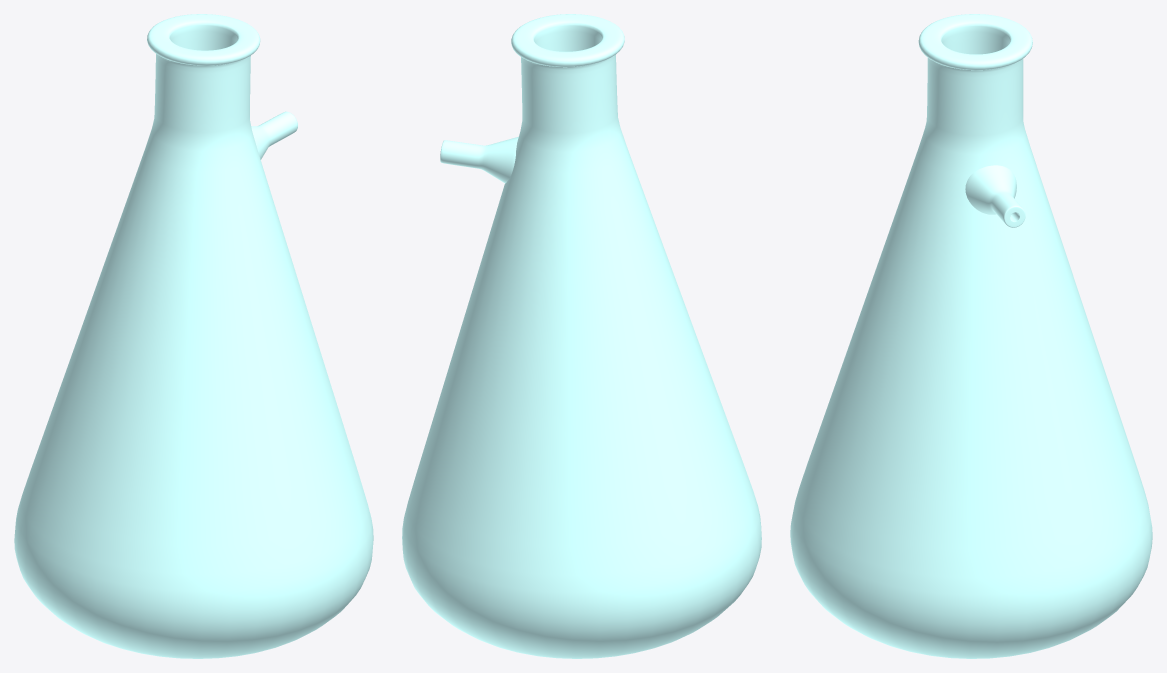
Rendered from matraz.glb.
The picture shows the model from 3 angles, left to right: view 1: azimuth 30°, elevation 25°; view 2: azimuth 150°, elevation 25°; view 3: azimuth 270°, elevation 25°; orthographic projection.
Parts seen in each view (by area): view 1: 17197_Buchner_flask_v1_0; view 2: 17197_Buchner_flask_v1_0; view 3: 17197_Buchner_flask_v1_0.
Part boxes in pixels (left/top/right/bottom): 17197_Buchner_flask_v1_0: left=14, top=14, right=373, bottom=658; 17197_Buchner_flask_v1_0: left=402, top=14, right=761, bottom=658; 17197_Buchner_flask_v1_0: left=790, top=14, right=1152, bottom=658.
Bounding box in the file's own units: 18.26 × 32.57 × 18.28.
